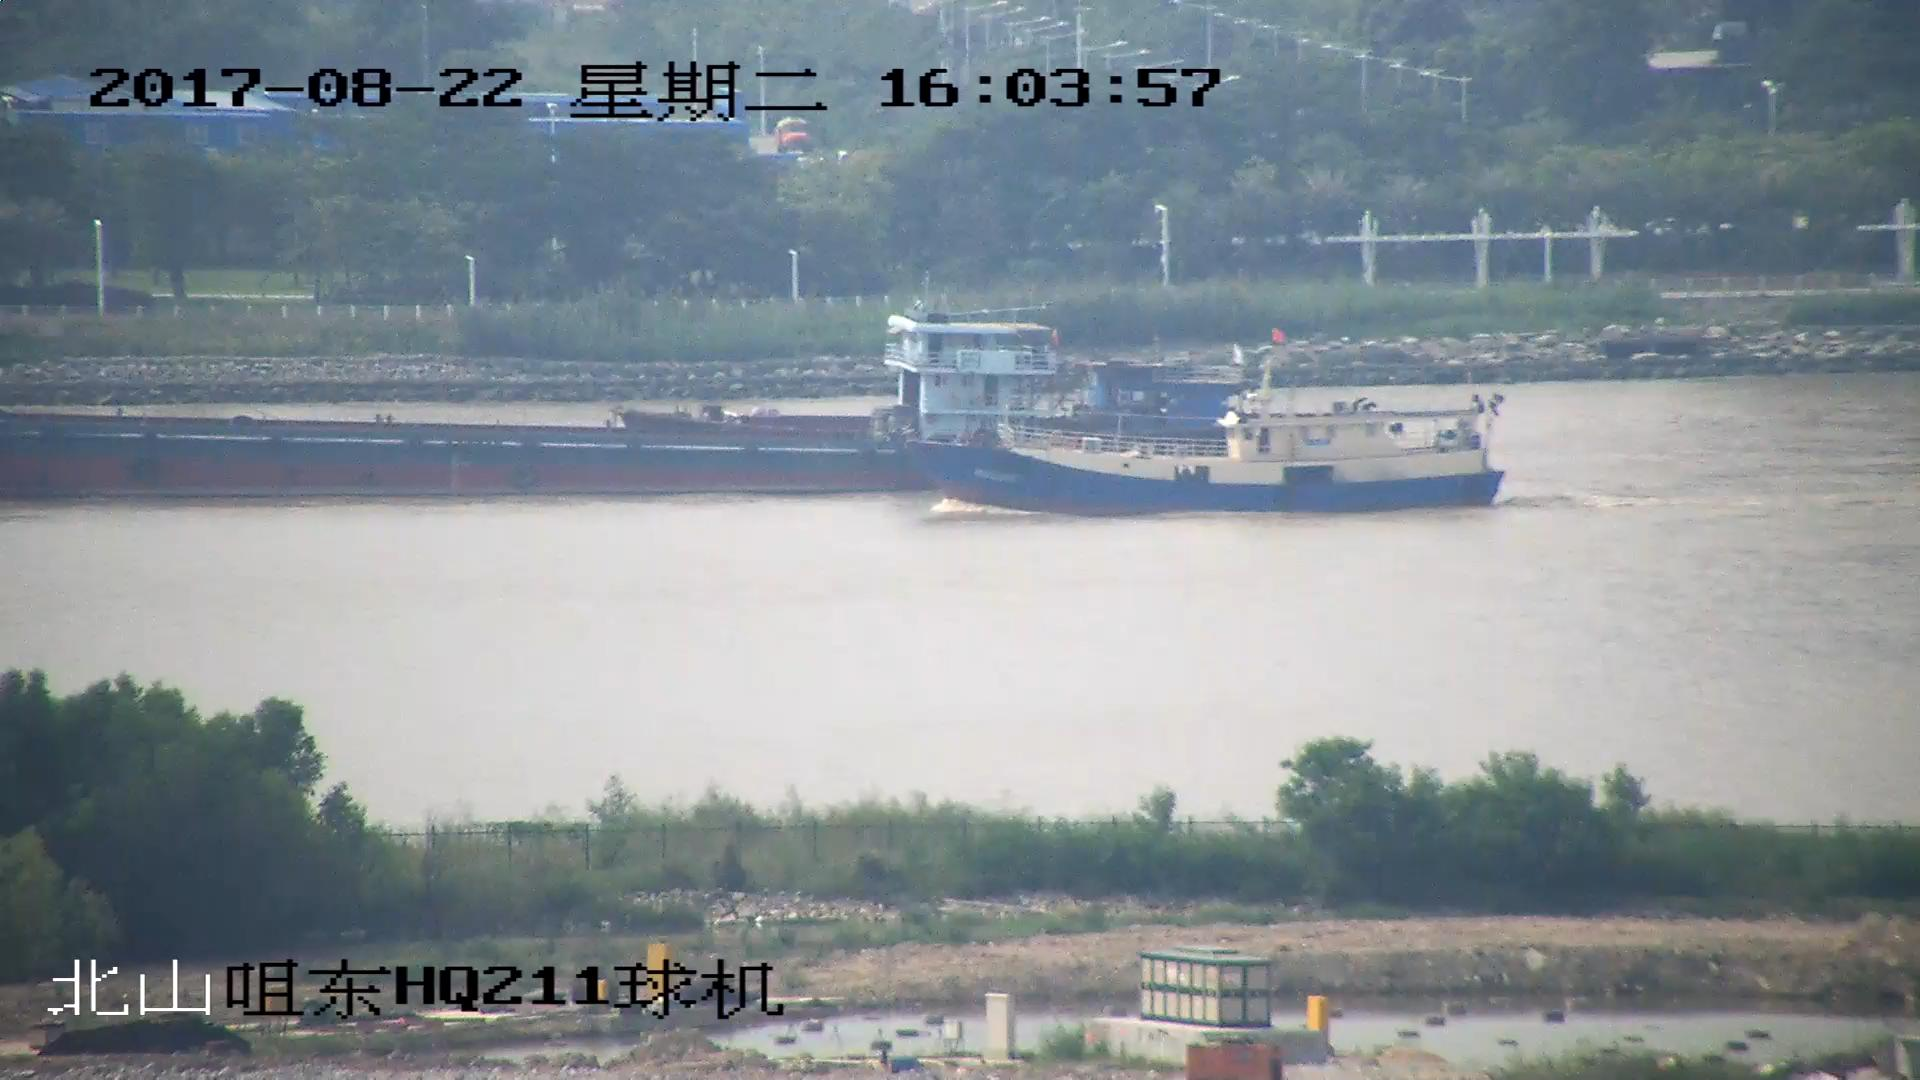bulk cargo carrier: (1, 309, 1046, 501)
fishing boat: (914, 327, 1502, 516)
